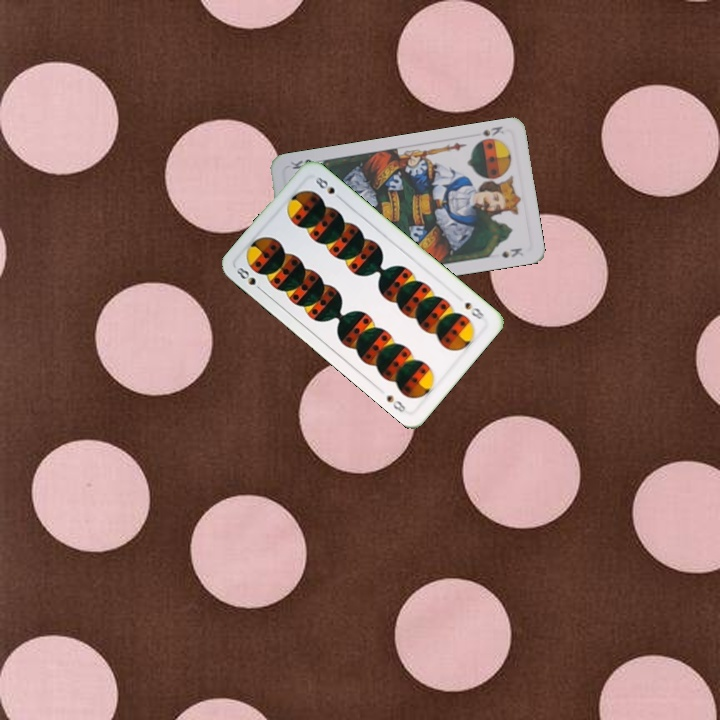S8: (232, 263, 266, 295), (461, 298, 487, 322)
SK: (479, 122, 507, 139)
